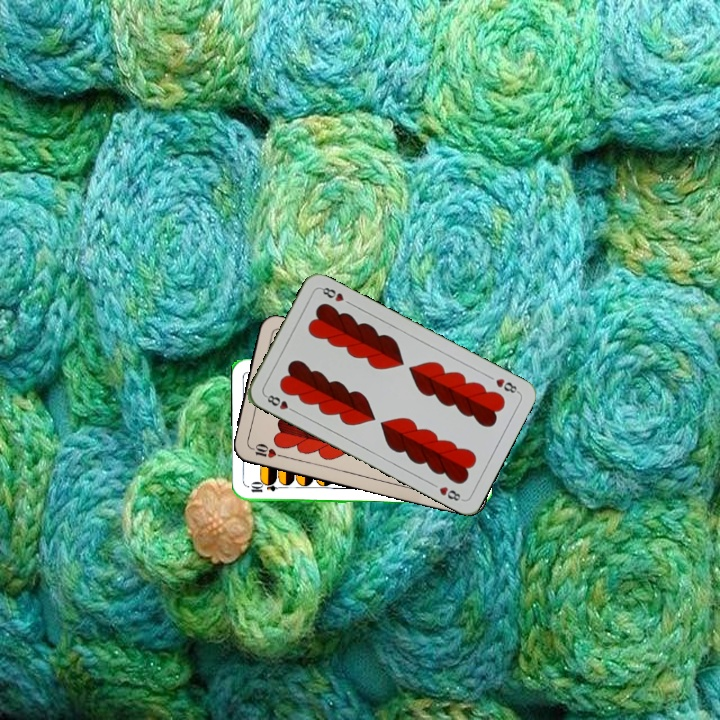E10: (247, 481, 287, 495)
H10: (246, 439, 286, 461)
H8: (261, 391, 299, 415), (491, 374, 522, 396)
